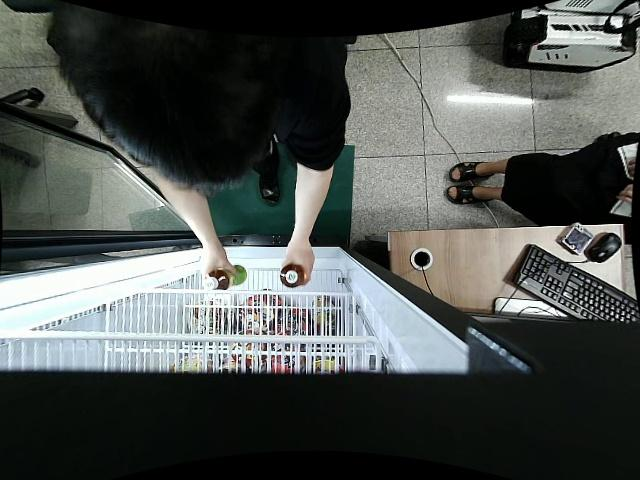00_hand: (279, 240, 315, 287), (197, 247, 239, 278)
19_17cha: (199, 264, 247, 290), (278, 260, 306, 288)
